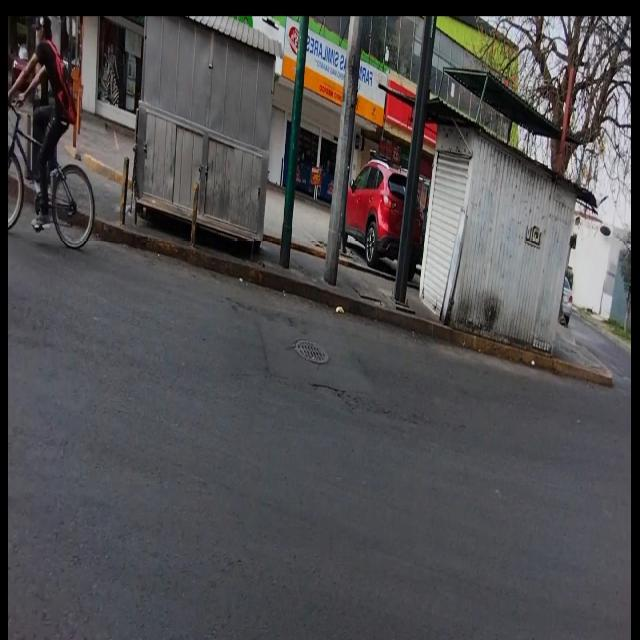adult: (9, 15, 72, 233)
